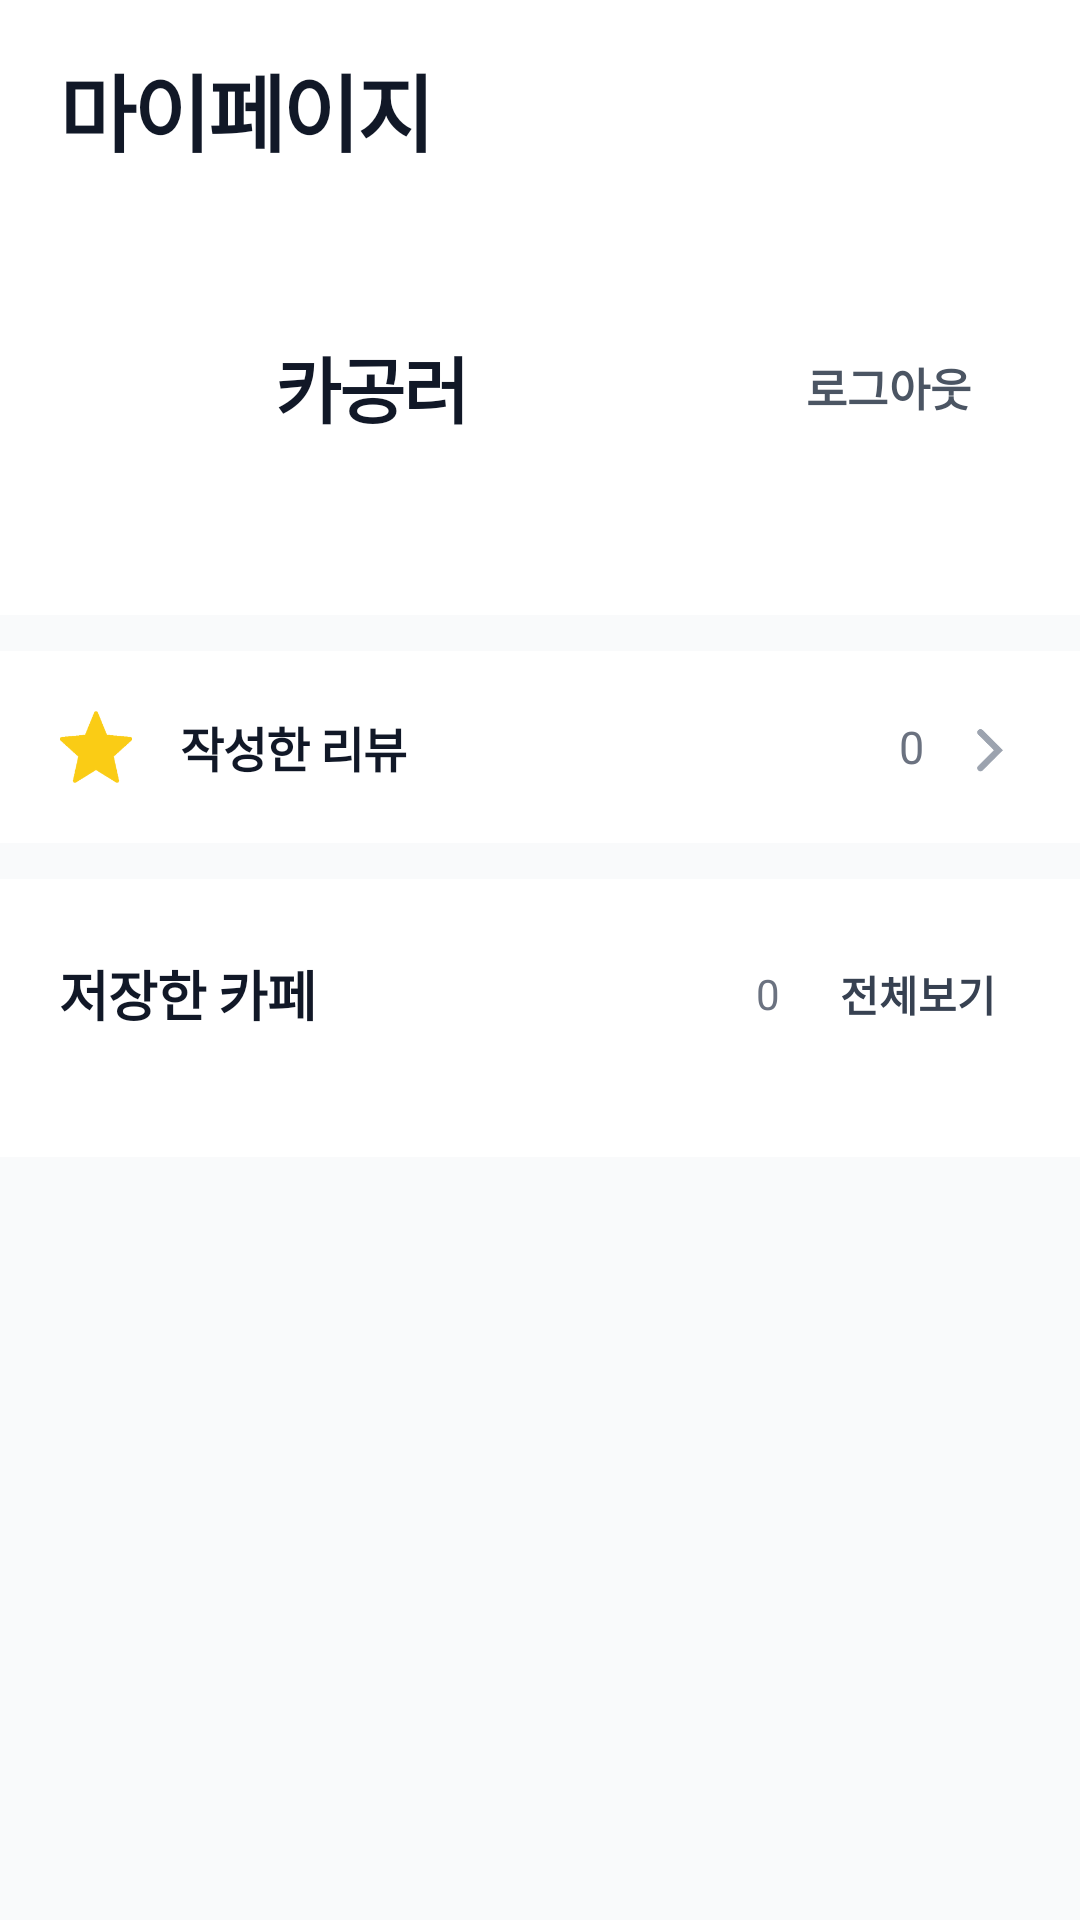

Locate icon controls on the screen. Image size 1080 × 1920, boxes as (x1, y1, x2, y2).
내 리뷰: (60, 711, 132, 783)
이동: (977, 729, 1003, 772)
